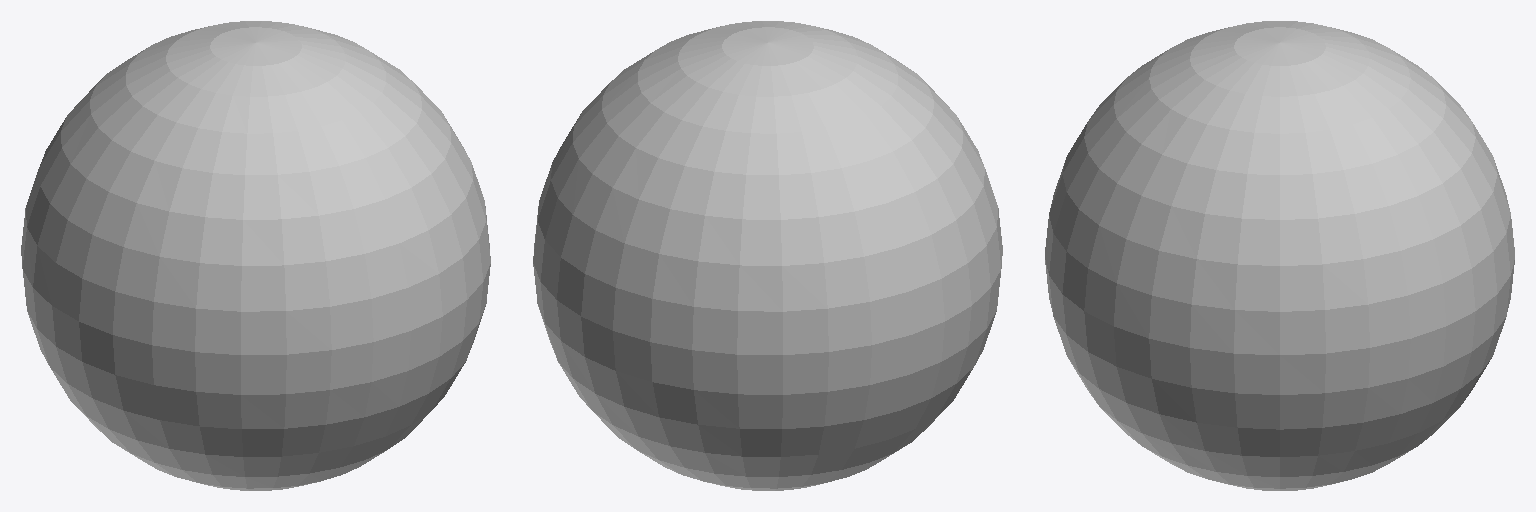
Rendered from Burr.OBJ.
3 renders of one model, left to right at view 1: azimuth 30°, elevation 25°; view 2: azimuth 150°, elevation 25°; view 3: azimuth 270°, elevation 25°, orthographic.
Visible parts, largest first — view 1: Burr_Sphere; view 2: Burr_Sphere; view 3: Burr_Sphere.
Part boxes in pixels (x1,y1,x2,y2): Burr_Sphere: (21,21,490,490); Burr_Sphere: (533,21,1002,490); Burr_Sphere: (1045,21,1514,490).
Bounding box in the file's own units: 0.0065 × 0.0065 × 0.0065.